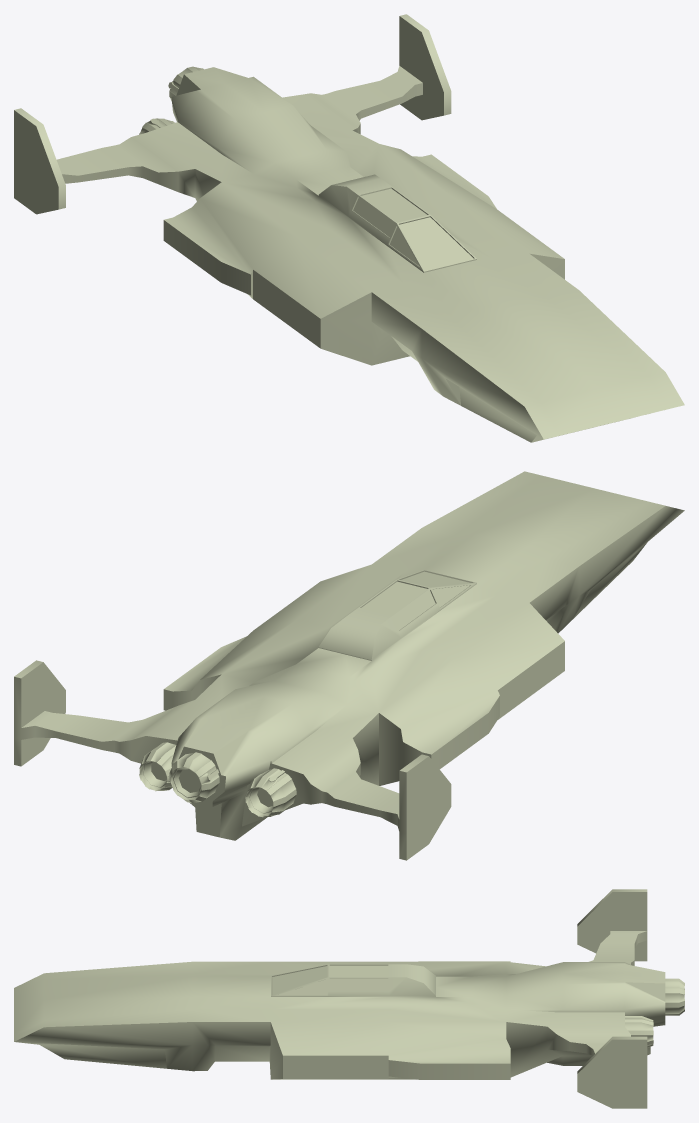
Rendered from headhunter_uvc.obj.
The picture shows the model from 3 angles, top to bottom: view 1: azimuth 30°, elevation 25°; view 2: azimuth 150°, elevation 25°; view 3: azimuth 270°, elevation 25°; orthographic projection. The views are drawn at different scales.
Visible parts, largest first — view 1: Hull.001; view 2: Hull.001, largeEngine, largeEngine.001_largeEngine, largeEngine.002_largeEngine; view 3: Hull.001, largeEngine, largeEngine.002_largeEngine.
Part boxes in pixels (box(x1,y1,x2,y2)): Hull.001: box(14, 14, 684, 442); Hull.001: box(14, 471, 684, 860); largeEngine: box(169, 752, 219, 803); largeEngine.001_largeEngine: box(245, 768, 296, 817); largeEngine.002_largeEngine: box(139, 742, 176, 791); Hull.001: box(14, 889, 665, 1108); largeEngine: box(665, 978, 684, 1015); largeEngine.002_largeEngine: box(625, 1016, 653, 1047).
Size of the model in its own units: 0.4936 by 0.1492 by 0.932.
